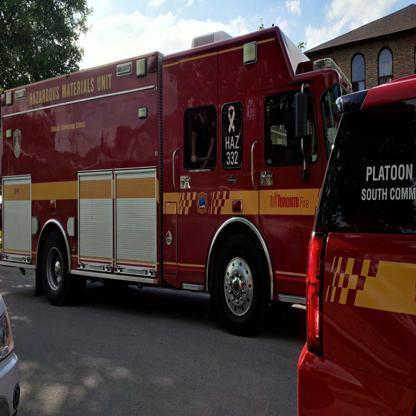fire-truck: (5, 62, 374, 322)
